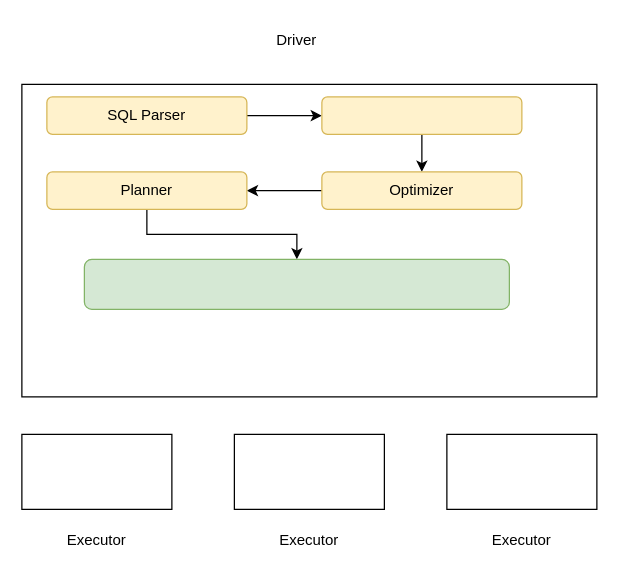
Image size: 619x580. Some labels were removed from this diagram. The shapes that lost their labels are listed below. From the top down, each one's centre as x and y in pixels, then its label:
the point at 421,115: Semantice Analyzer
the point at 296,283: Physical Plan
